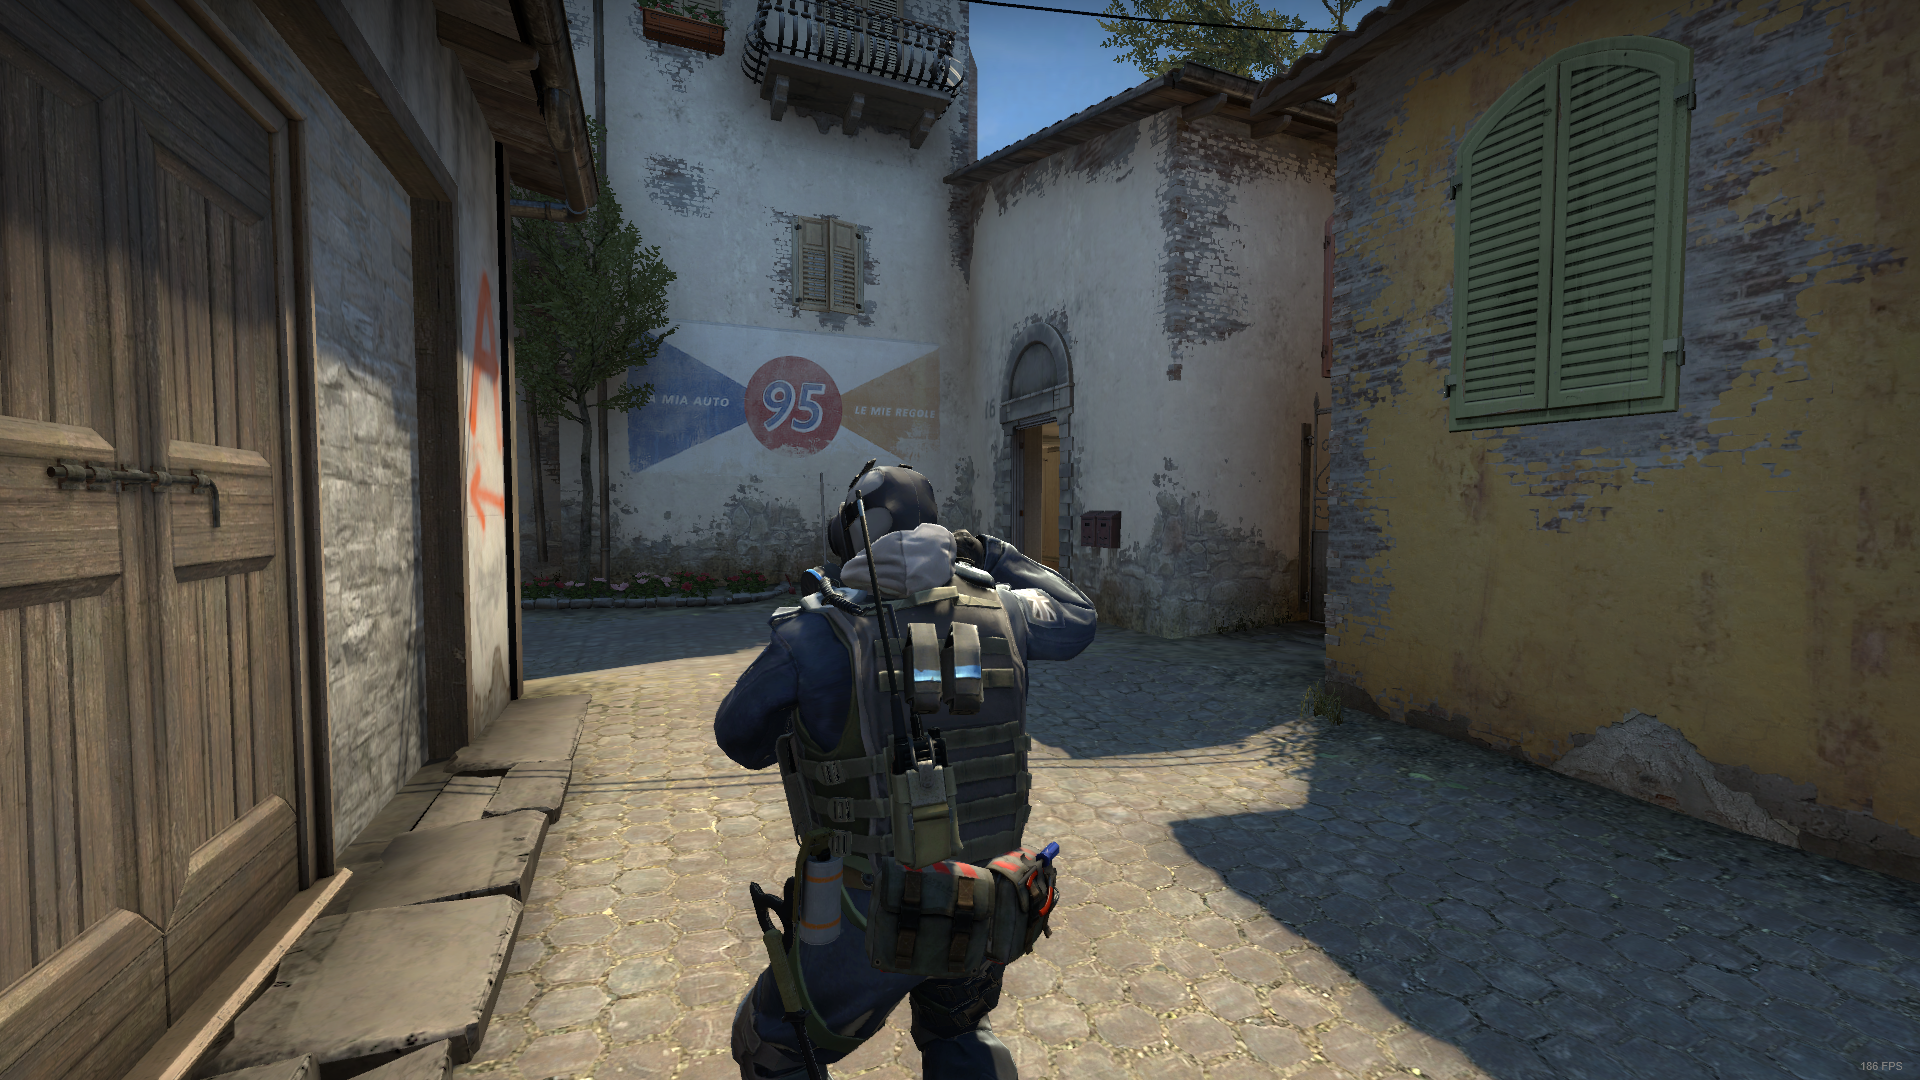ct: (715, 463, 1101, 1080)
